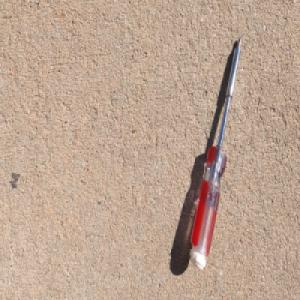Screwdriver: (188, 33, 243, 270)
